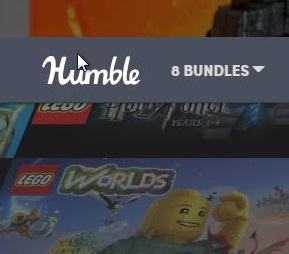cursor: (75, 51, 90, 74)
